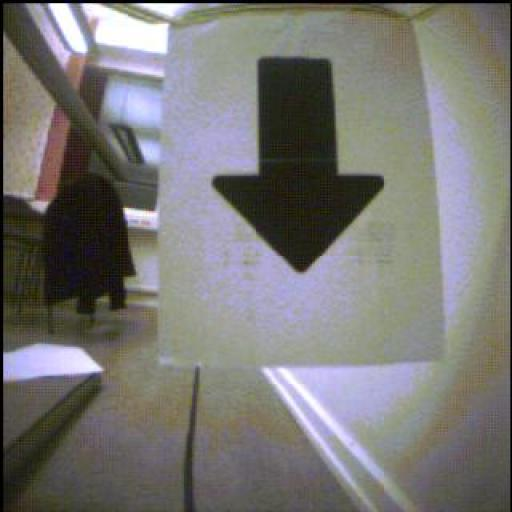Arrow: (214, 59, 385, 273)
